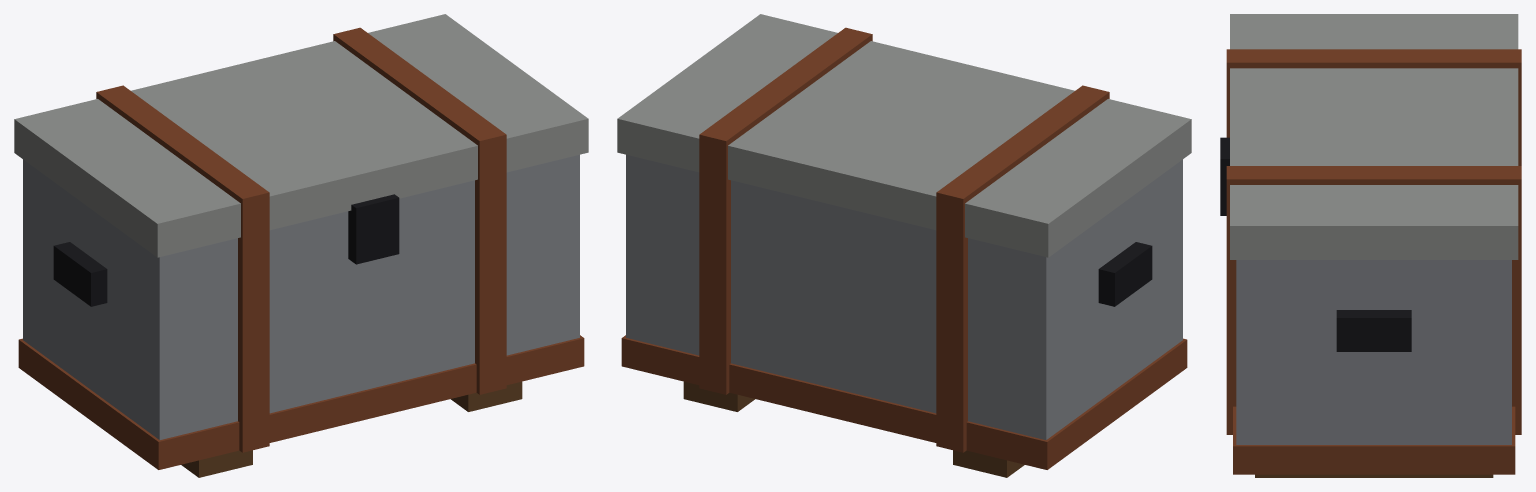
File: prop_tin-trunk.glb
The picture shows the model from 3 angles, left to right: view 1: azimuth 30°, elevation 25°; view 2: azimuth 150°, elevation 25°; view 3: azimuth 270°, elevation 25°; orthographic projection.
Parts seen in each view (by area): view 1: body; view 2: body; view 3: body.
Part boxes in pixels (x1,y1,x2,y2): body: (14,14,588,477); body: (617,14,1191,477); body: (1220,14,1521,477).
Bounding box in the file's own units: 0.85 × 0.5 × 0.48.
